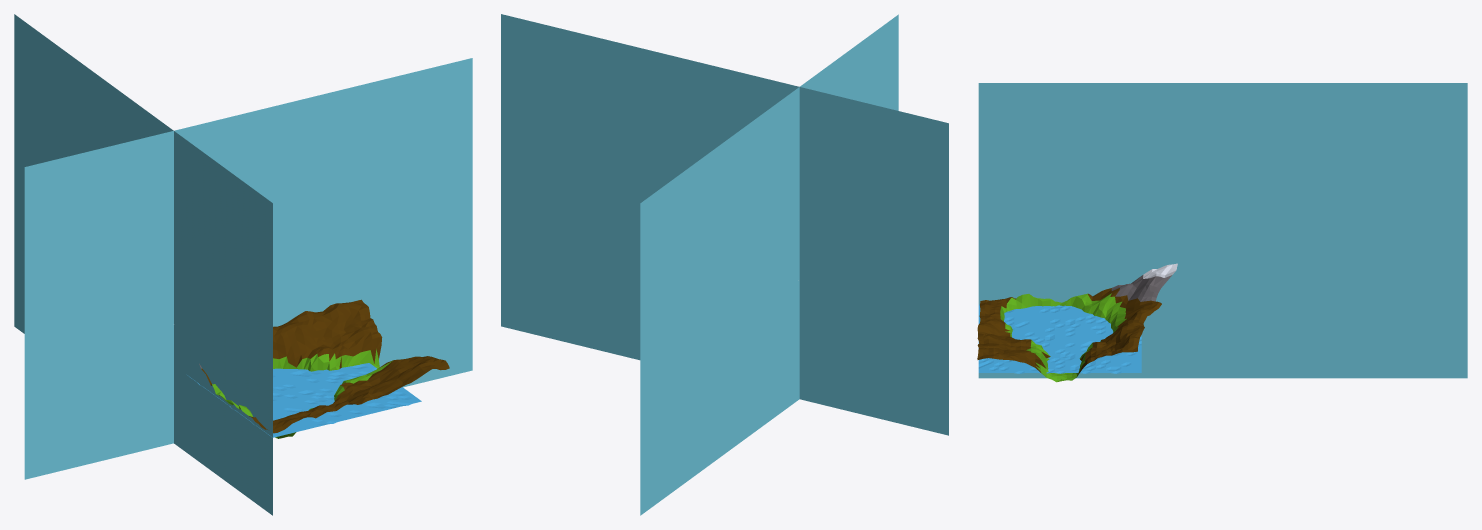
The model's file is 산배경테스트.fbx.
The picture shows the model from 3 angles, left to right: view 1: azimuth 30°, elevation 25°; view 2: azimuth 150°, elevation 25°; view 3: azimuth 270°, elevation 25°; orthographic projection. The views are drawn at different scales.
Parts seen in each view (by area): view 1: Plane.003, Plane.002, Plane, Plane.001; view 2: Plane.003, Plane.002; view 3: Plane.002, Plane, Plane.001.
Boxes of the visible parts, box(x1,y1,x2,y2) form: Plane.003: box(24, 58, 472, 479); Plane.002: box(14, 14, 272, 515); Plane: box(199, 299, 449, 438); Plane.001: box(187, 363, 421, 437); Plane.003: box(501, 14, 948, 435); Plane.002: box(640, 14, 898, 515); Plane.002: box(978, 83, 1467, 378); Plane: box(977, 263, 1177, 382); Plane.001: box(978, 304, 1141, 373).
Bounding box in the file's own units: 600 × 400 × 602.
